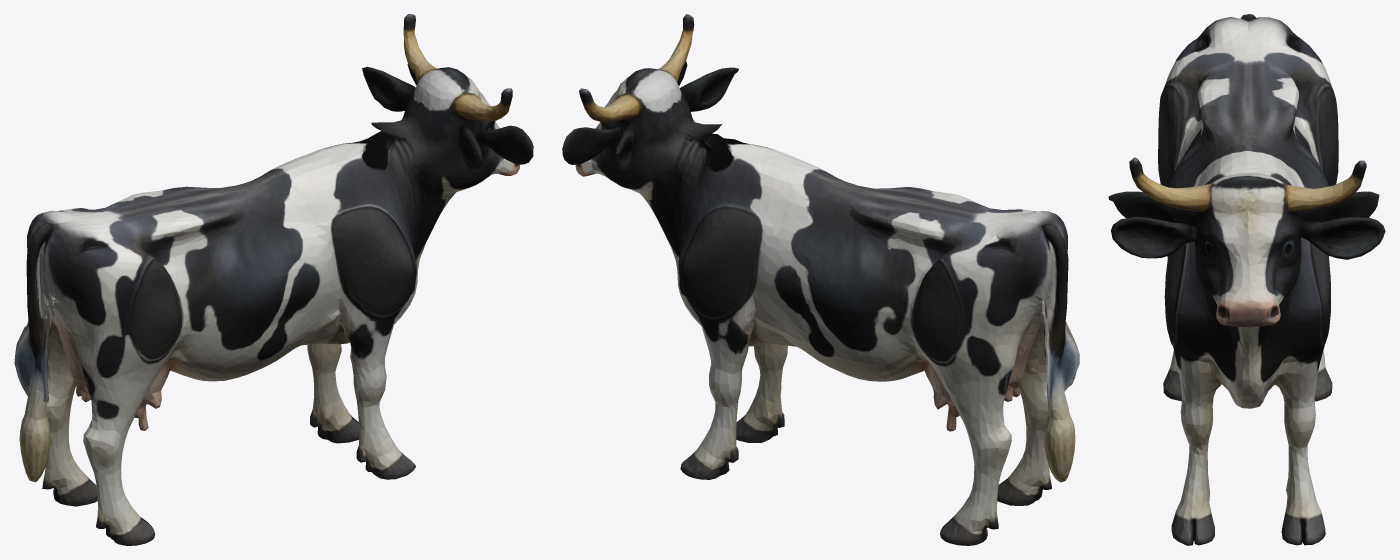
3 renders of one model, left to right at view 1: azimuth 30°, elevation 25°; view 2: azimuth 150°, elevation 25°; view 3: azimuth 270°, elevation 25°, orthographic. The views are drawn at different scales.
Visible parts, largest first — view 1: world; view 2: world; view 3: world.
Boxes of the visible parts, x1,y1,x2,y2 form: world: (14, 14, 533, 545); world: (562, 14, 1079, 545); world: (1108, 14, 1385, 545).
Bounding box in the file's own units: 1 × 0.7406 × 0.4361.
Materials: 1 (1 with a texture image).
